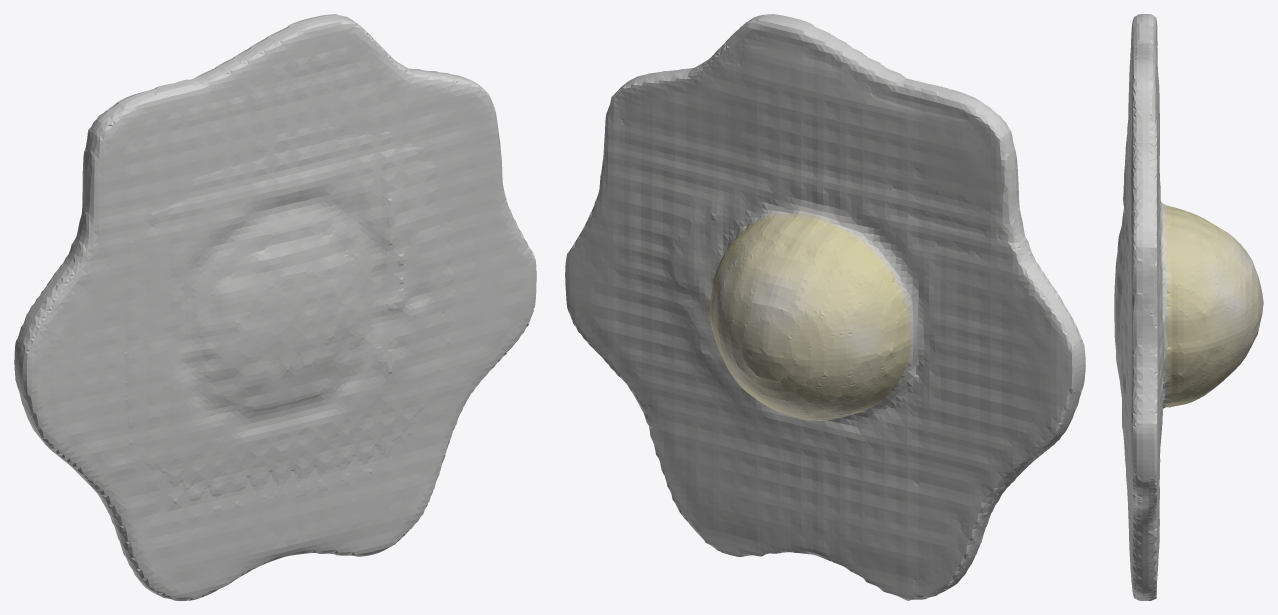
Rendered from egg.glb.
3 renders of one model, left to right at view 1: azimuth 30°, elevation 25°; view 2: azimuth 150°, elevation 25°; view 3: azimuth 270°, elevation 25°, orthographic. The views are drawn at different scales.
Parts seen in each view (by area): view 1: geometry_0; view 2: geometry_0; view 3: geometry_0.
Part boxes in pixels (bbox=[...]): geometry_0: bbox=[14, 14, 536, 600]; geometry_0: bbox=[565, 14, 1085, 600]; geometry_0: bbox=[1114, 14, 1263, 600].
Size of the model in its own units: 1.52 by 1.55 by 0.4123.
